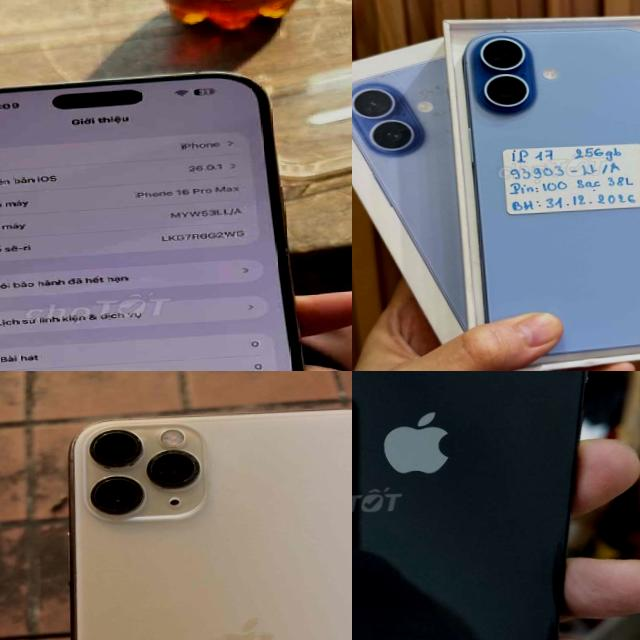gen_11: (62, 403, 352, 640)
gen_16: (0, 57, 321, 371)
gen_17: (463, 14, 640, 371)
gen_7_8: (352, 371, 605, 640)
